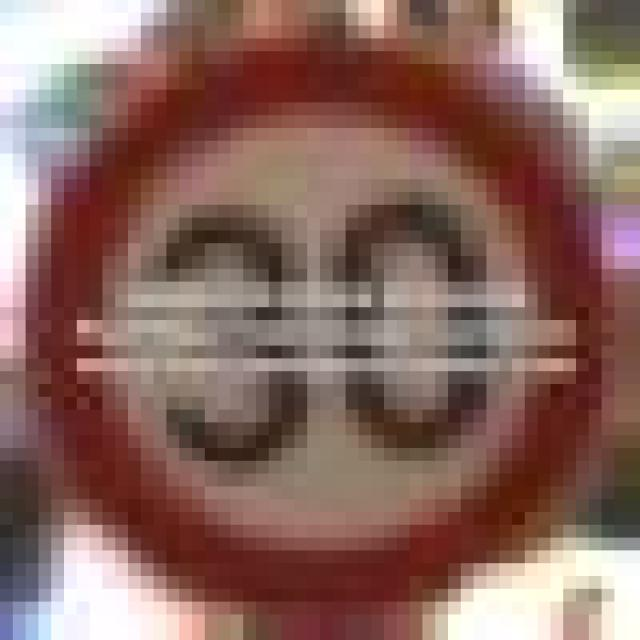SPEED_LIMIT_30: (26, 26, 588, 614)
